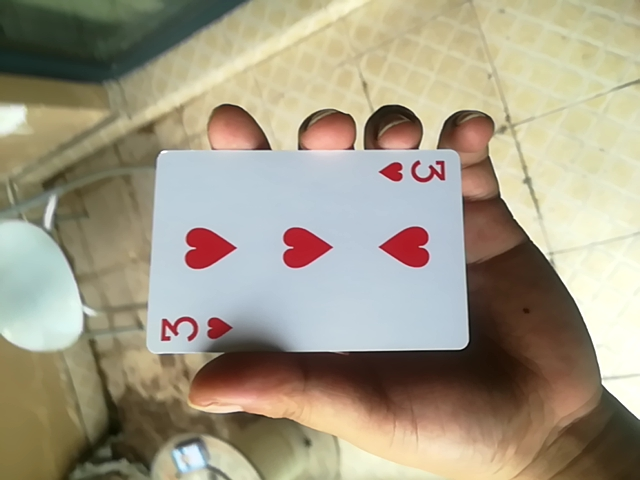hx 3: (143, 147, 466, 358)
